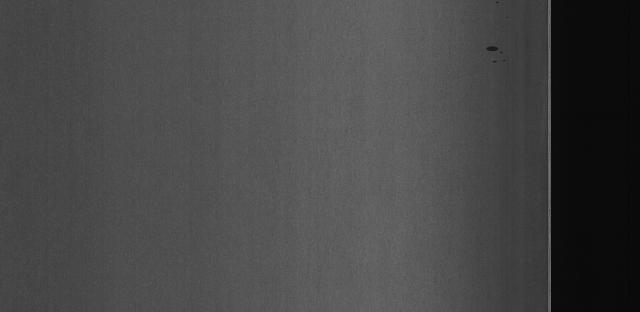oil_spot: (477, 39, 507, 64)
